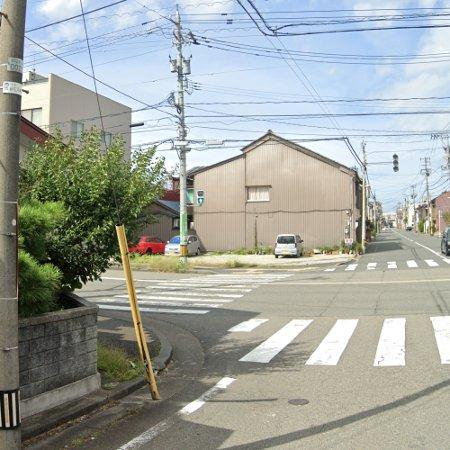crosswalks: (225, 314, 450, 369)
